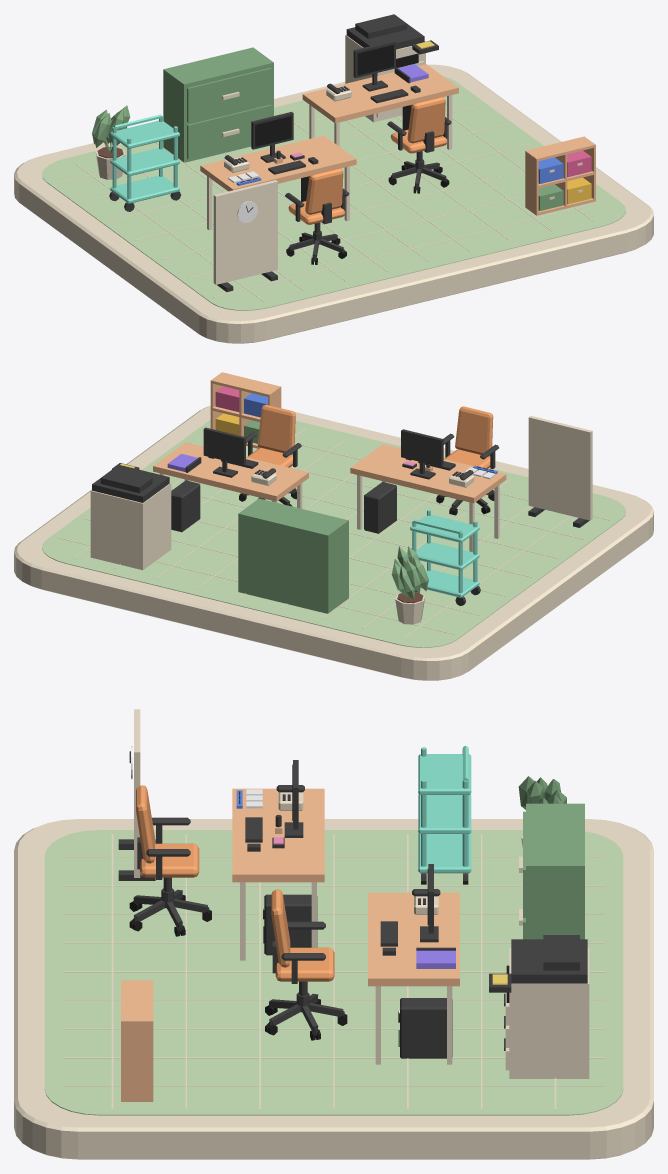
File: room.fbx
3 views of the same model, one above another, from view 1: azimuth 30°, elevation 25°; view 2: azimuth 150°, elevation 25°; view 3: azimuth 270°, elevation 25° (orthographic). The views are drawn at different scales.
Visible parts, largest first — view 1: COM-02 Floor Surface, COM-01 Rounded Base Direct, Cabinet, Panel, Top.001, Top, Body, COM-04_Chair_blender_direct.001, COM-04_Chair_blender_direct, Pot, Frame.001, Frame (+10 smaller); view 2: COM-02 Floor Surface, COM-01 Rounded Base Direct, Cabinet, Body, Panel, Top, Top.001, COM-04_Chair_blender_direct, COM-04_Chair_blender_direct.001, Pot, Frame, Frame.001 (+7 smaller); view 3: COM-02 Floor Surface, COM-01 Rounded Base Direct, Body, Cabinet, Top, Top.001, COM-04_Chair_blender_direct, COM-04_Chair_blender_direct.001, Tower.001, Cubbies divider.002, Tray.002, Tray.001 (+12 smaller).
Part boxes in pixels (x1,y1,x2,y2): COM-02 Floor Surface: (42,76,625,310); COM-01 Rounded Base Direct: (14,64,653,343); Cabinet: (163,47,273,162); Panel: (213,180,277,284); Top.001: (302,64,458,149); Top: (200,135,356,230); Body: (345,14,438,122); COM-04_Chair_blender_direct.001: (387,96,451,193); COM-04_Chair_blender_direct: (285,168,349,264); Pot: (92,105,130,179); Frame.001: (353,40,395,91); Frame: (251,111,293,162); COM-02 Floor Surface: (42,420,625,647); COM-01 Rounded Base Direct: (14,406,653,680); Cabinet: (238,498,348,613); Body: (90,463,171,570); Panel: (528,416,592,520); Top: (350,444,506,551); Top.001: (153,442,308,508); COM-04_Chair_blender_direct: (436,406,499,515); COM-04_Chair_blender_direct.001: (239,404,301,506); Pot: (391,546,428,624); Frame: (401,429,443,479); Frame.001: (203,427,245,477); COM-02 Floor Surface: (44,830,623,1115); COM-01 Rounded Base Direct: (14,819,653,1159); Body: (489,935,589,1078); Cabinet: (519,803,584,939); Top: (232,788,324,960); Top.001: (368,892,459,1064); COM-04_Chair_blender_direct: (129,785,211,936); COM-04_Chair_blender_direct.001: (265,889,347,1040); Tower.001: (400,998,452,1058); Cubbies divider.002: (121,1021,153,1101); Tray.002: (418,754,471,794); Tray.001: (418,794,471,833).
Size of the model in its own units: 600 by 161 by 520.
